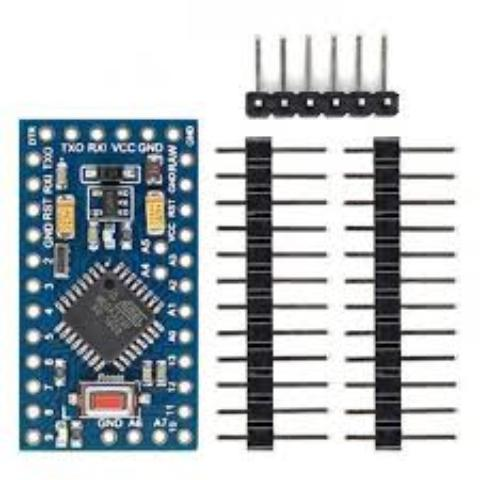Arduino-Pro-Mini: (10, 96, 206, 463)
